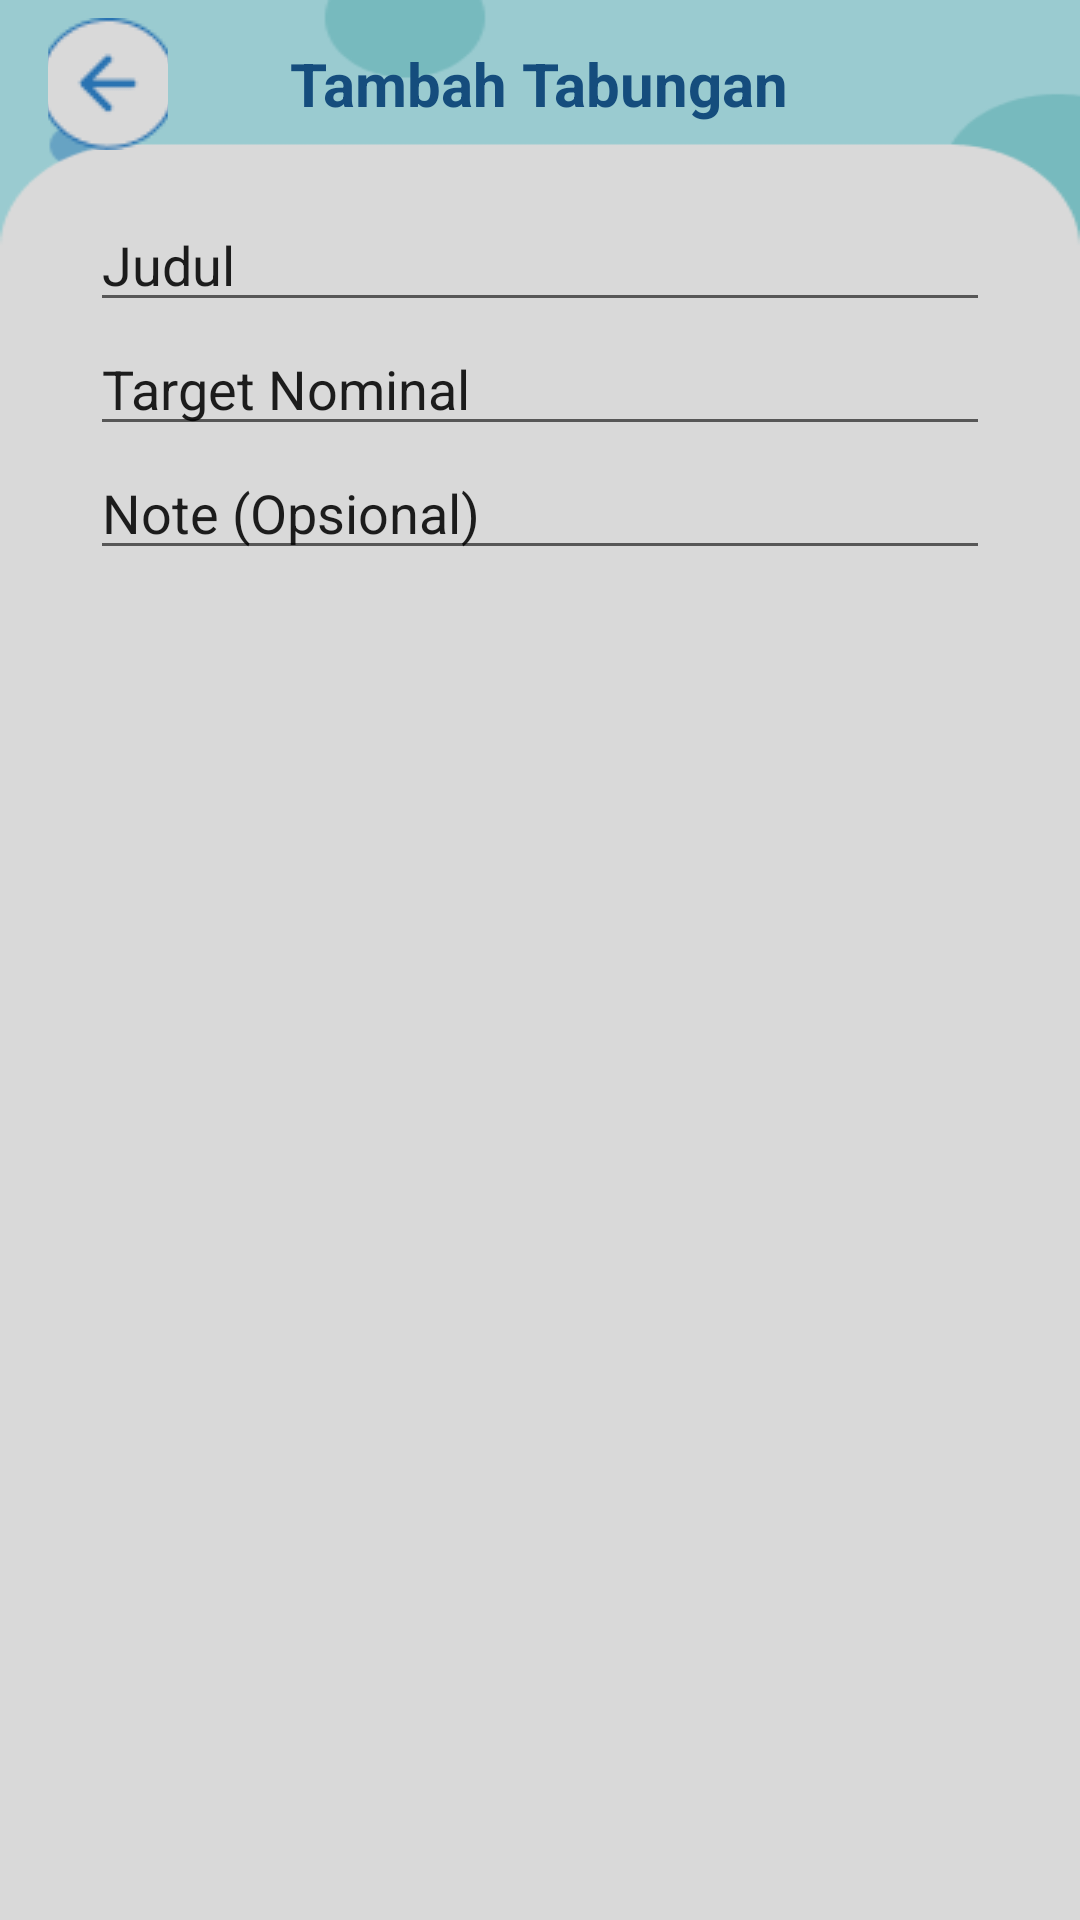

Locate icon controls on the screen. Image size 1080w x 1920h, boxes as (x1, y1, x2, y2).
back: (48, 18, 168, 168)
